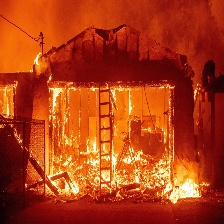fire: (49, 84, 208, 204), (1, 81, 23, 120), (27, 47, 44, 67)
